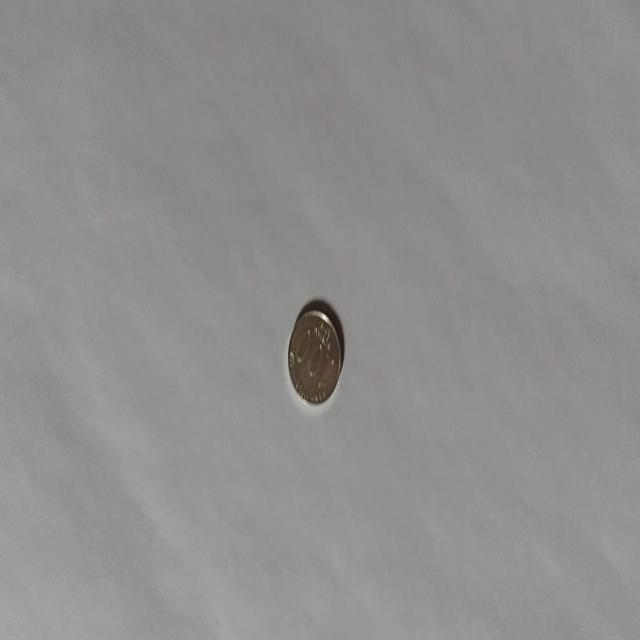seratus rupiah: (286, 306, 342, 406)
